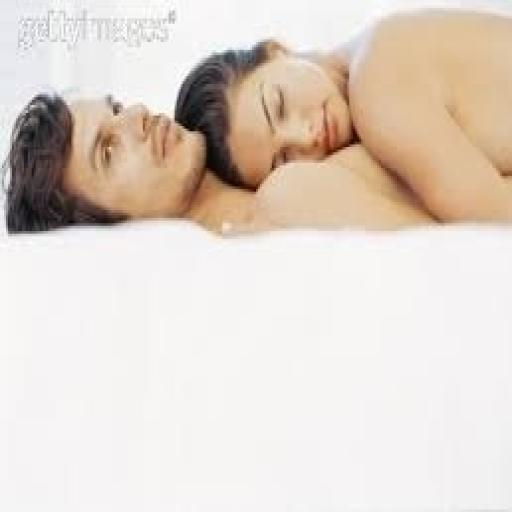sleeping: (173, 2, 510, 228), (0, 83, 208, 236)
